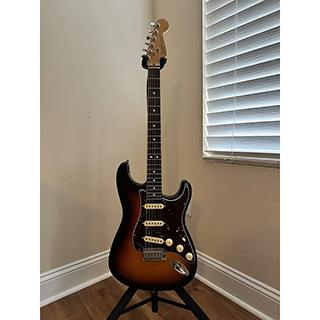Fender Stratocaster: (107, 17, 197, 291)
SSS: (142, 200, 168, 247)
